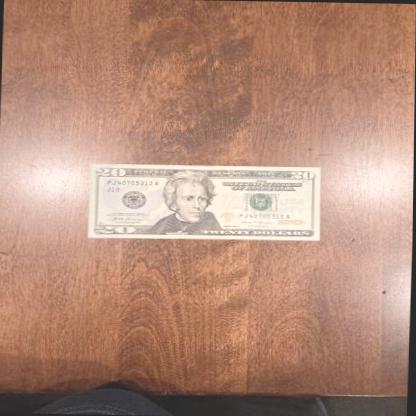twenty-front: (88, 162, 323, 242)
